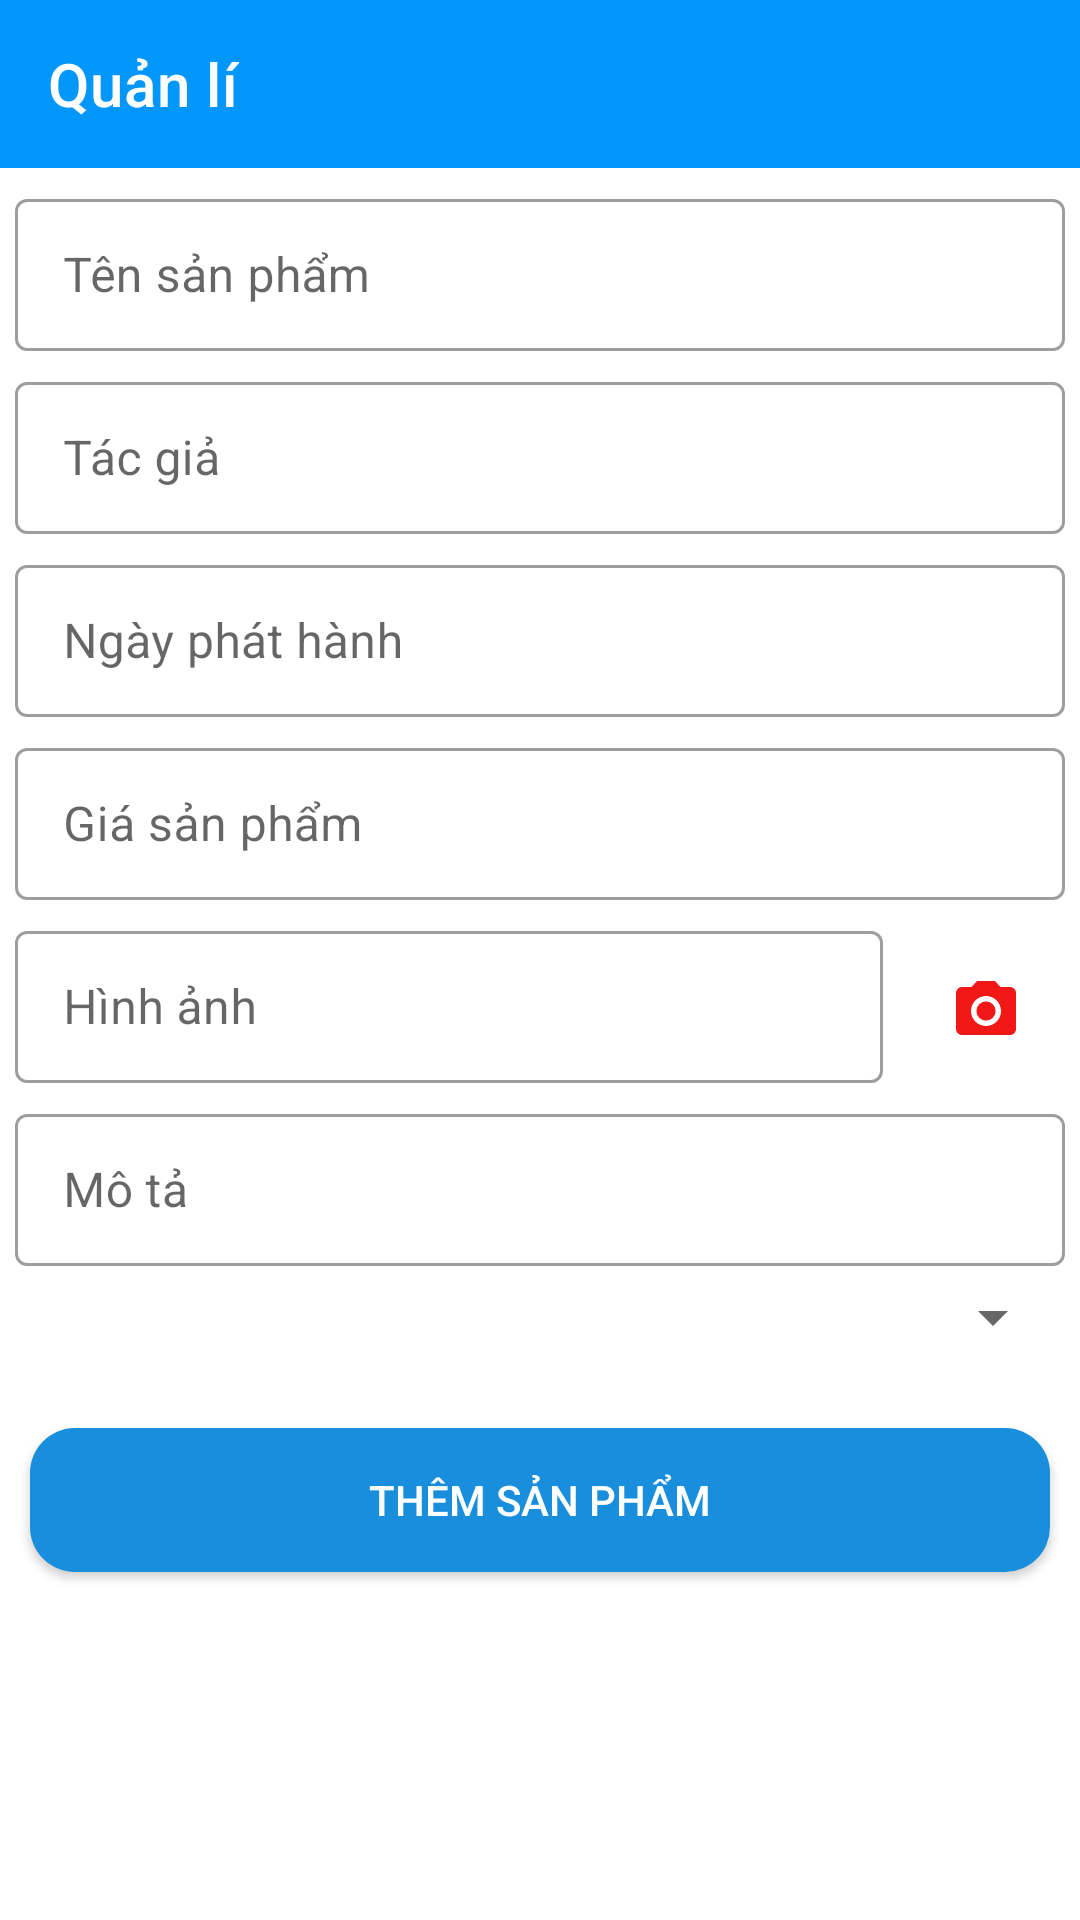

Named icons in this screenshot (1080w x 1920h) and their bounding boxes, [x1=x1, y1=y1, x2=x2, y2=y2]:
photo camera: [x1=956, y1=981, x2=1016, y2=1035]
